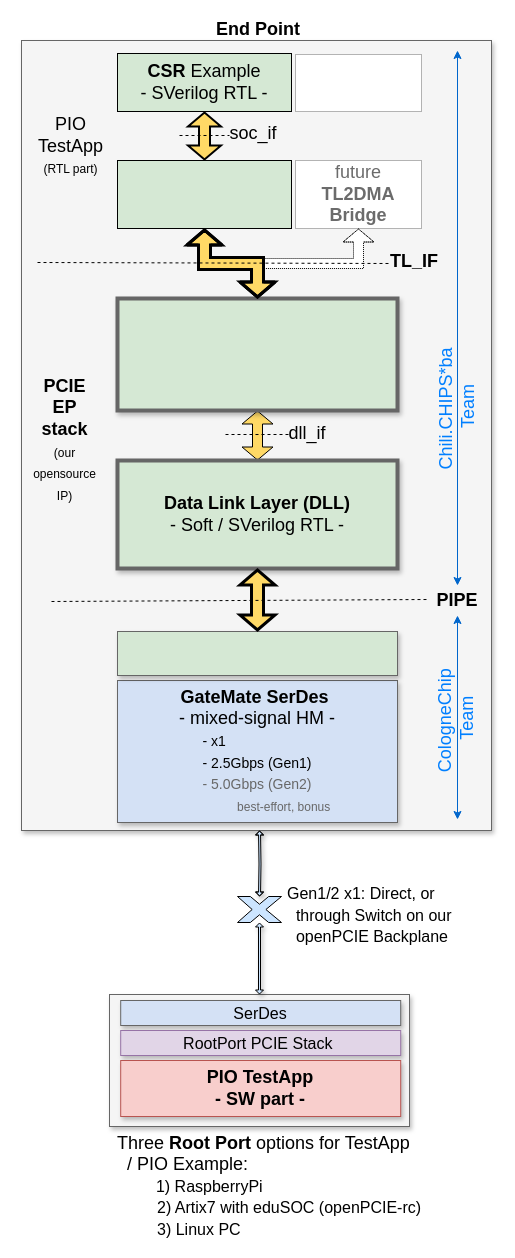
This 515x1258 diagram has some shape labels left out. The centre of each missing label's shape, as x and y in pixels:
future DMA Example: point 358,83
PHY with PIPE - Soft / SVerilog RTL (thin) -: point 258,654
TL2PIO Bridge Example - SVerilog RTL -: point 204,194
Transaction Layer (TL) - Soft / SVerilog RTL -: point 258,355
